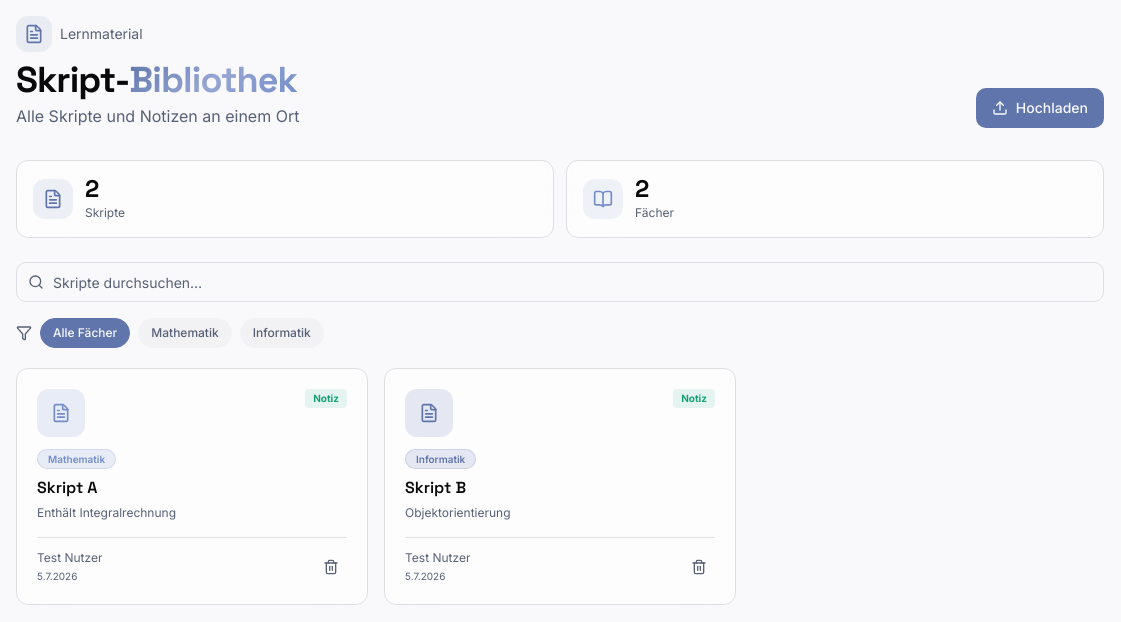
Scenario: SkriptePage – Suche und Subject-Filter › findet Skripte über Suchbegriff in der Beschreibung
This screenshot has width=1121, height=622.
Type "Integralrechnung" into the field with placeholder "Skripte durchsuchen…".
click(560, 282); type("Integralrechnung")  # box [16, 262, 1104, 302]
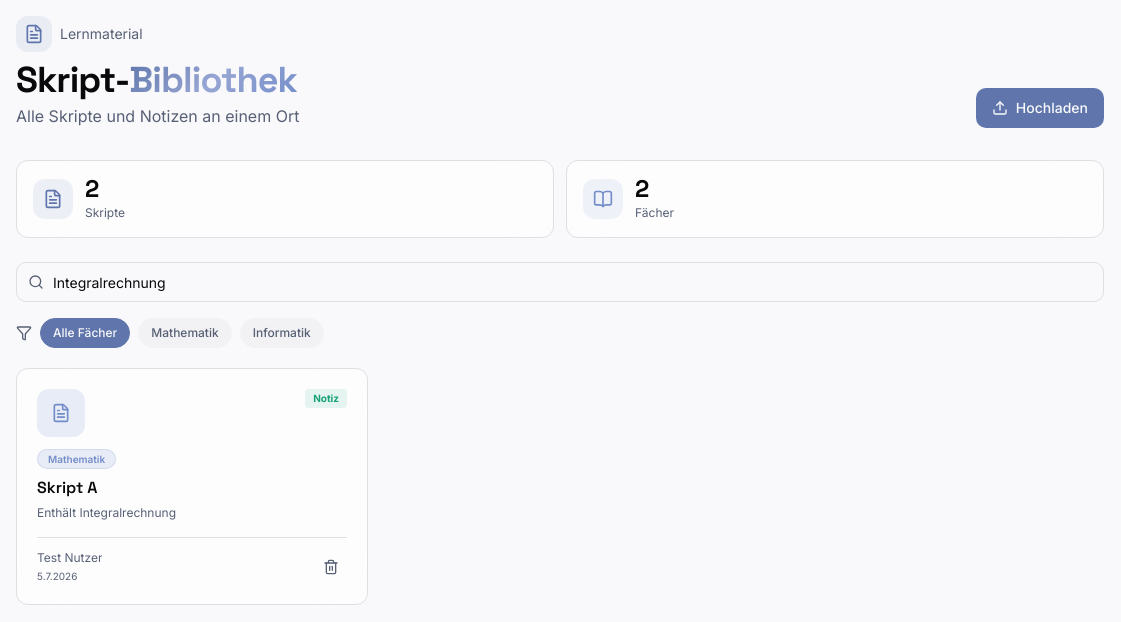
Check: the heading "Skript A" is shown, box [37, 477, 97, 498]
Check: the heading "Skript B" is gone
